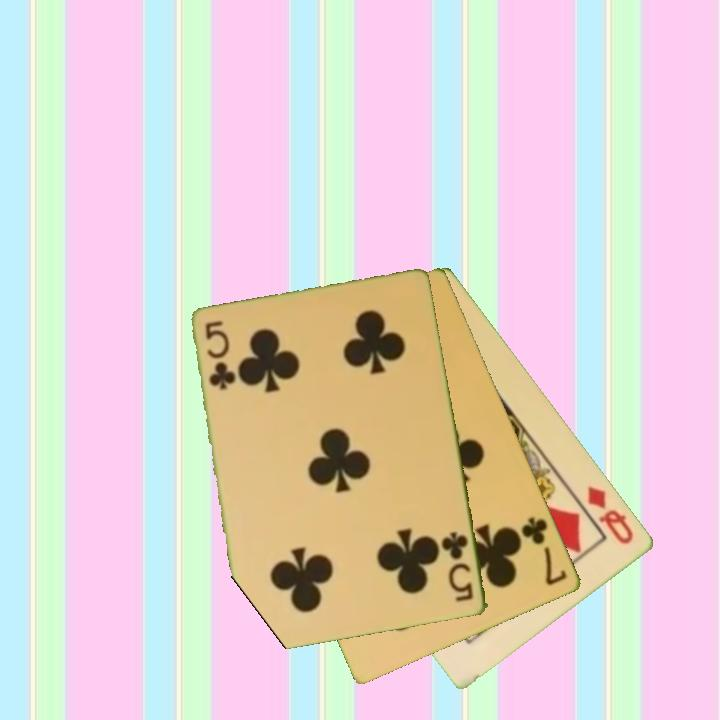5c: (438, 528, 477, 605), (202, 317, 236, 393)
7c: (518, 513, 571, 589)
Qd: (584, 482, 637, 548)
